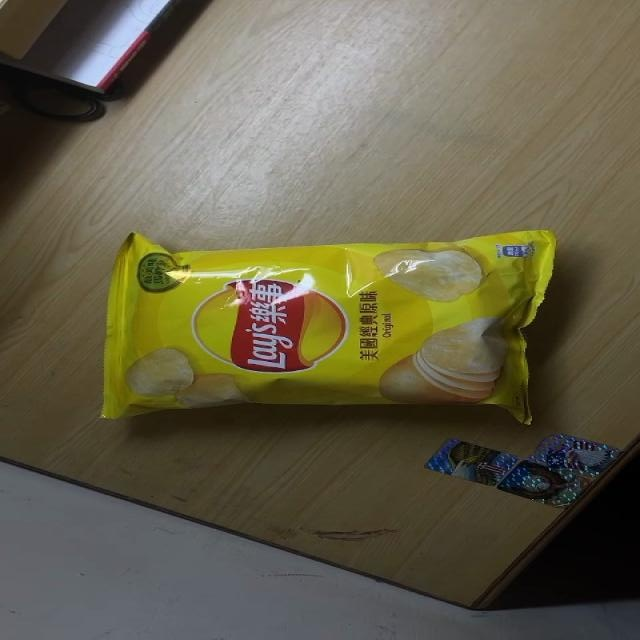Lay-s-original: (99, 228, 560, 426)
